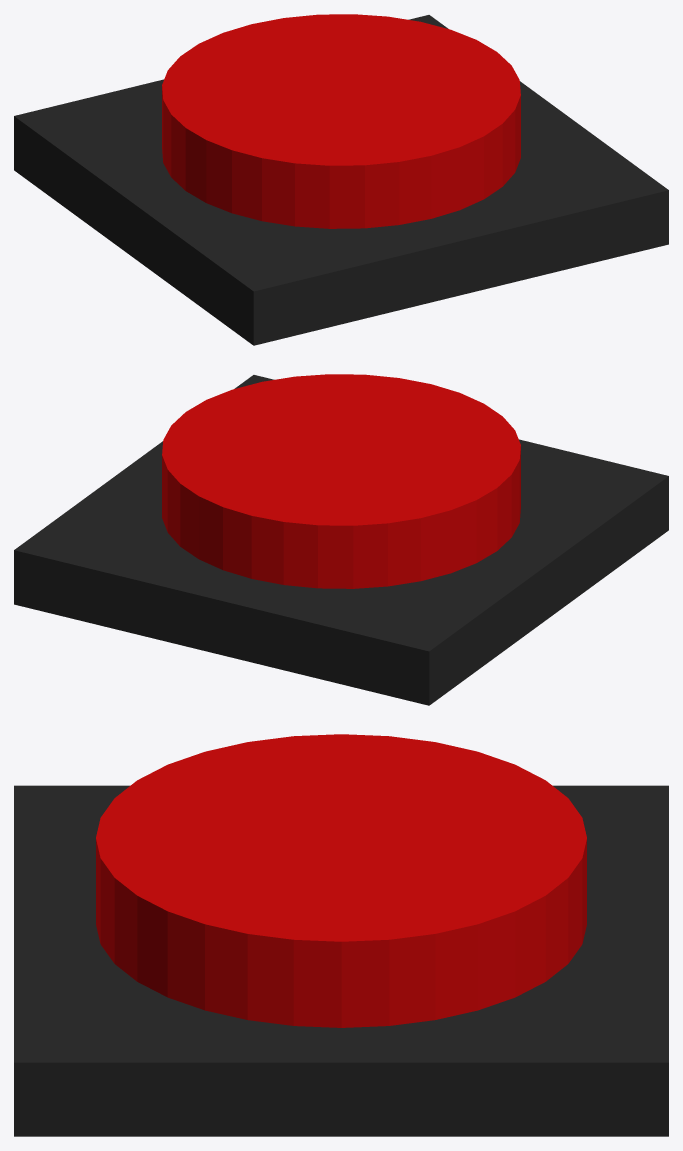
Rendered from ShittyButton1_0.fbx.
3 renders of one model, top to bottom at view 1: azimuth 30°, elevation 25°; view 2: azimuth 150°, elevation 25°; view 3: azimuth 270°, elevation 25°, orthographic. The views are drawn at different scales.
Parts seen in each view (by area): view 1: Cube, Cylinder; view 2: Cube, Cylinder; view 3: Cube, Cylinder.
Part boxes in pixels (bbox=[...]): Cube: bbox=[14, 15, 668, 345]; Cylinder: bbox=[162, 14, 520, 228]; Cube: bbox=[14, 375, 668, 705]; Cylinder: bbox=[162, 374, 520, 588]; Cube: bbox=[14, 785, 668, 1136]; Cylinder: bbox=[96, 734, 586, 1027].
Bounding box in the file's own units: 200 × 54.04 × 200.
